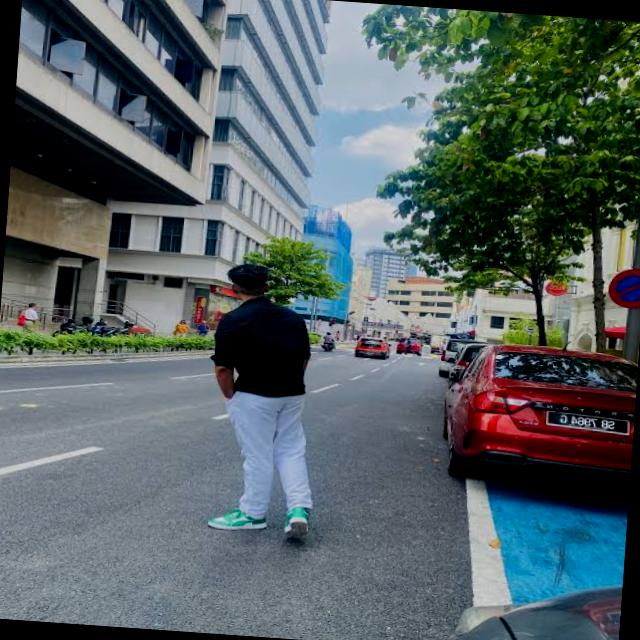Person: (184, 250, 338, 549)
